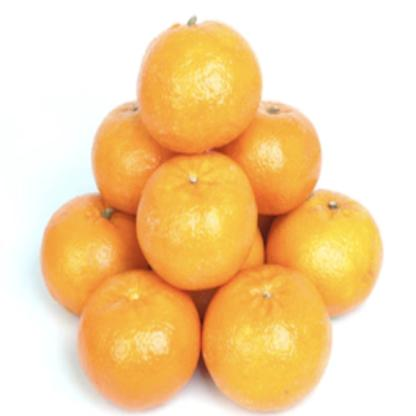fresh: (38, 16, 382, 416)
